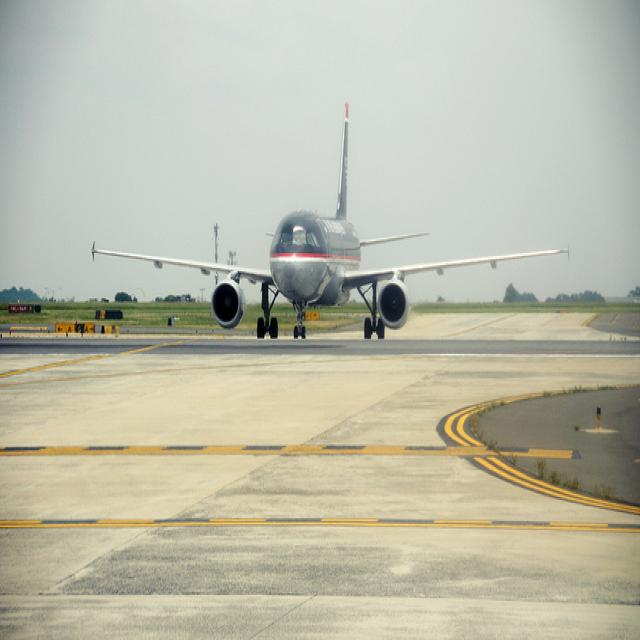airplane: (87, 98, 578, 354)
